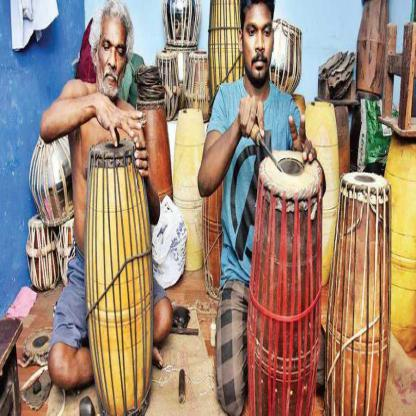Mridangam: (244, 143, 327, 414), (84, 128, 162, 411), (325, 167, 396, 413)
